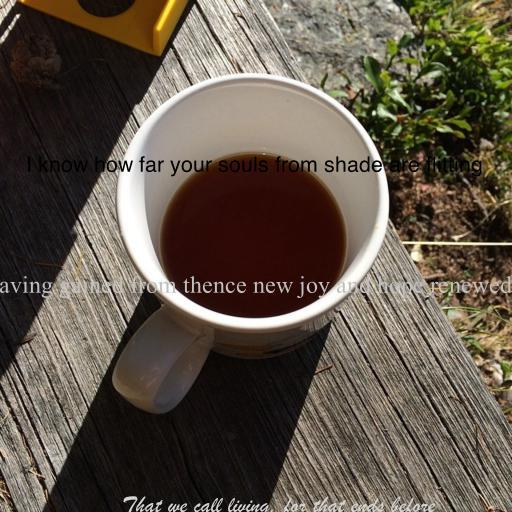Brush Script MT: (121, 496, 435, 512)
SF Pro: (25, 156, 483, 177)
Times New Roman: (0, 276, 512, 298)
